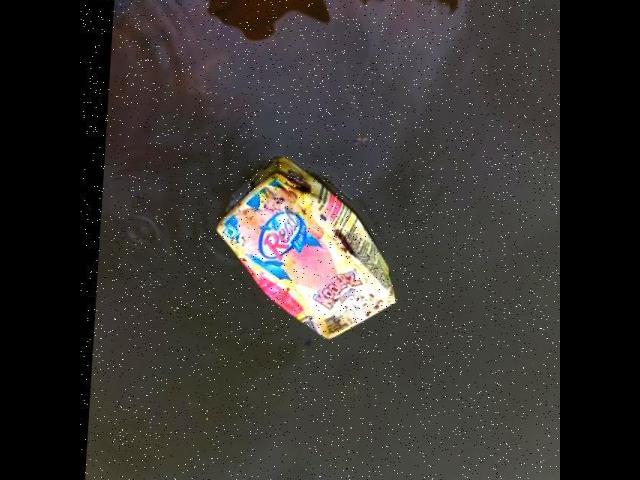Box: (214, 153, 396, 342)
